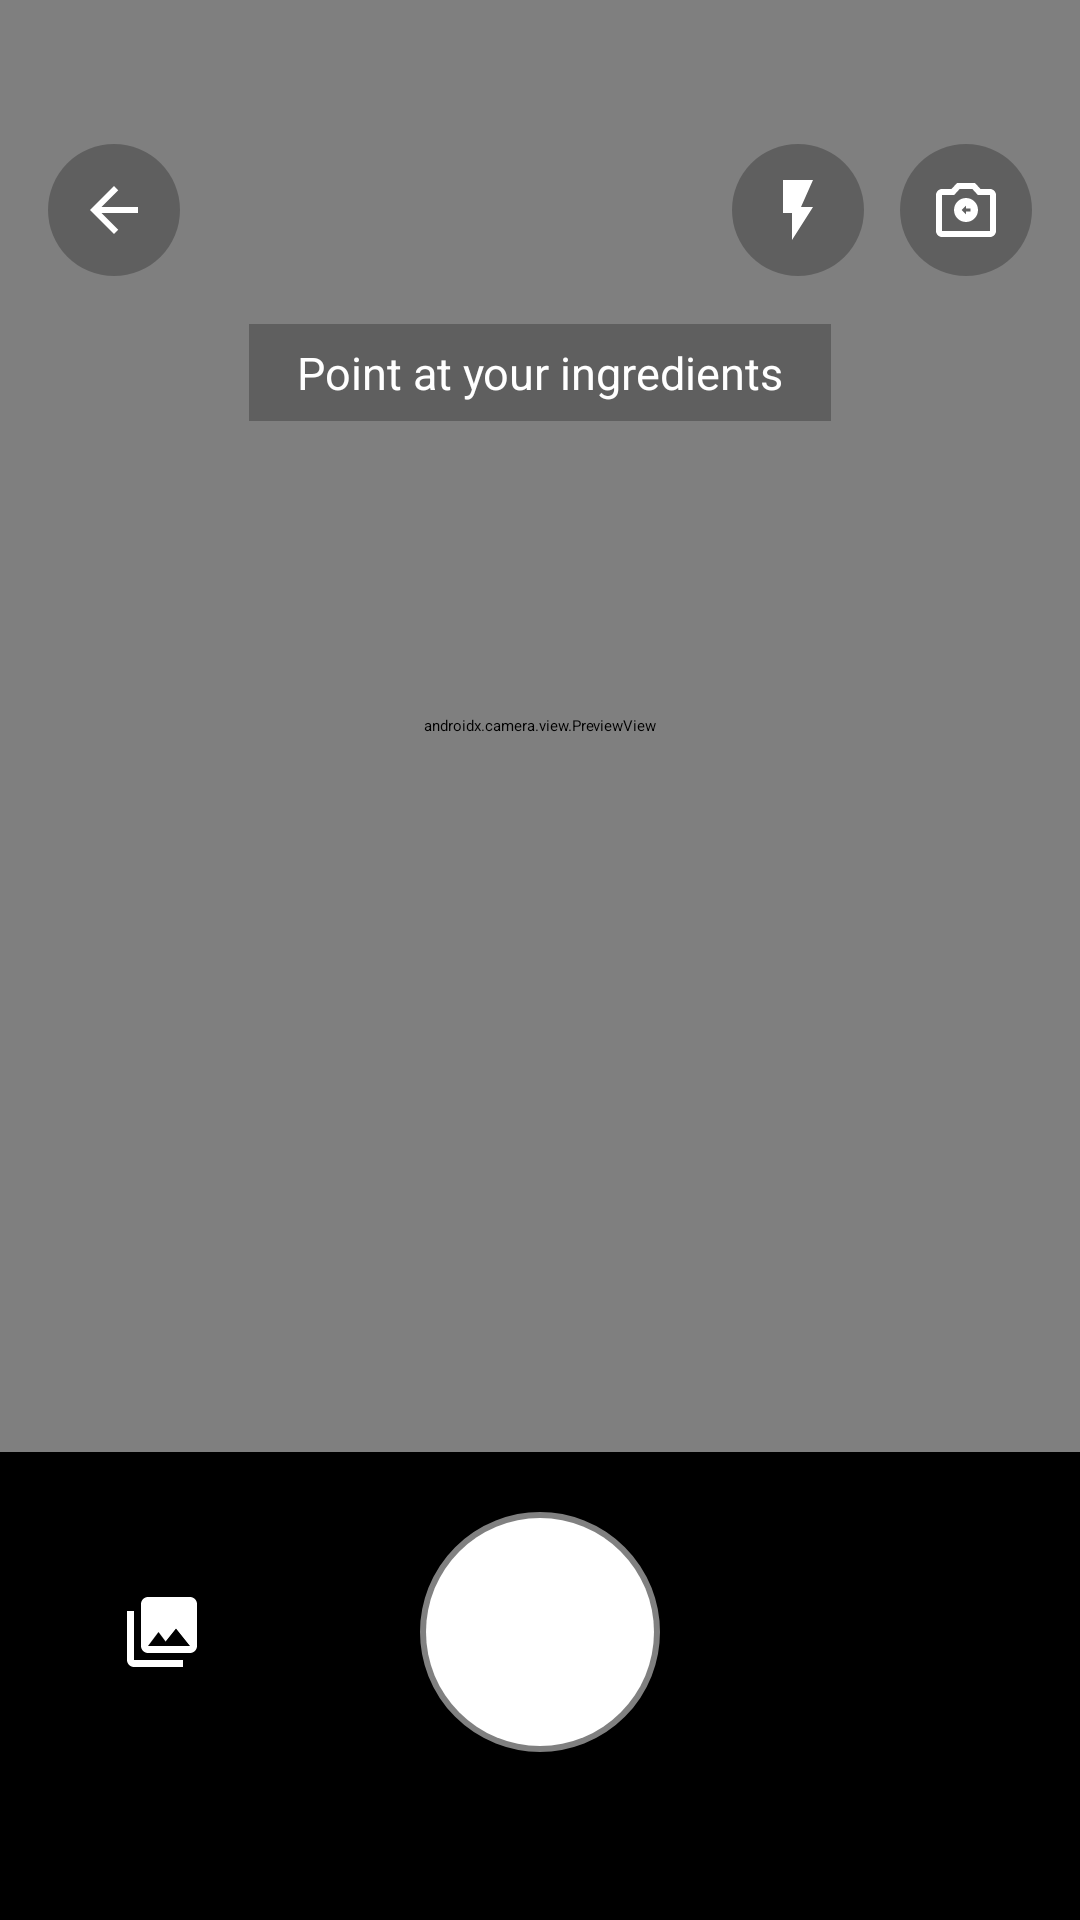

Where to tap for icons on this 1080*1920 app screen, as (x,y):
Back: (114,210)
Flash: (798,210)
Flip Camera: (966,210)
Gallery: (162,1632)
